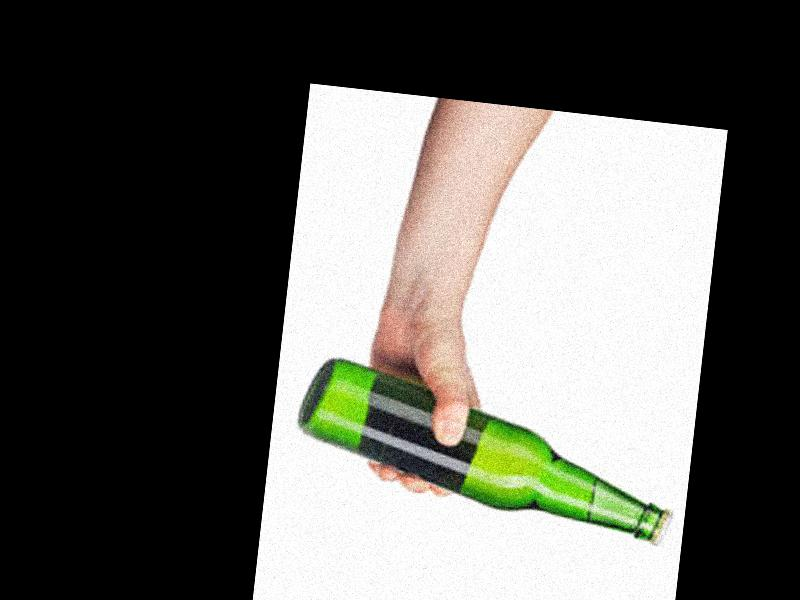Beer: (288, 355, 686, 547)
